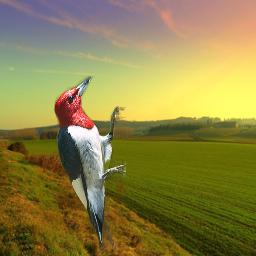Woodpecker: (53, 76, 126, 250)
